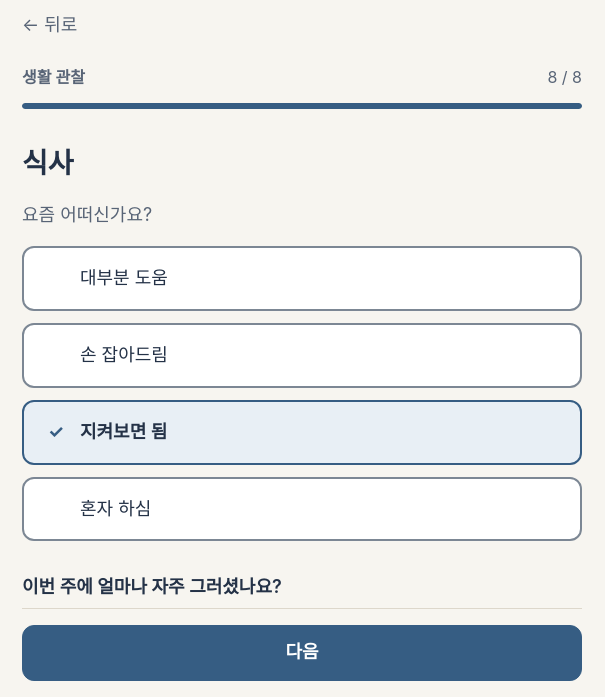
Scenario: 온보딩 기준선 › 저장이 실패하면 서버 문구를 그대로 보여주고 그 자리에 머문다
Click the button "다음" at (302, 653), box [22, 625, 582, 681]
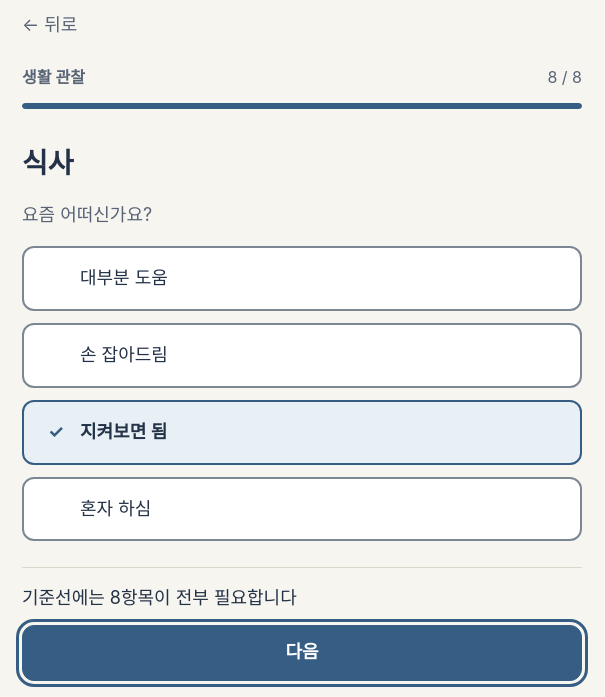
Check: the text "기준선에는 8항목이 전부 필요합니다" is shown, box [22, 587, 297, 608]
